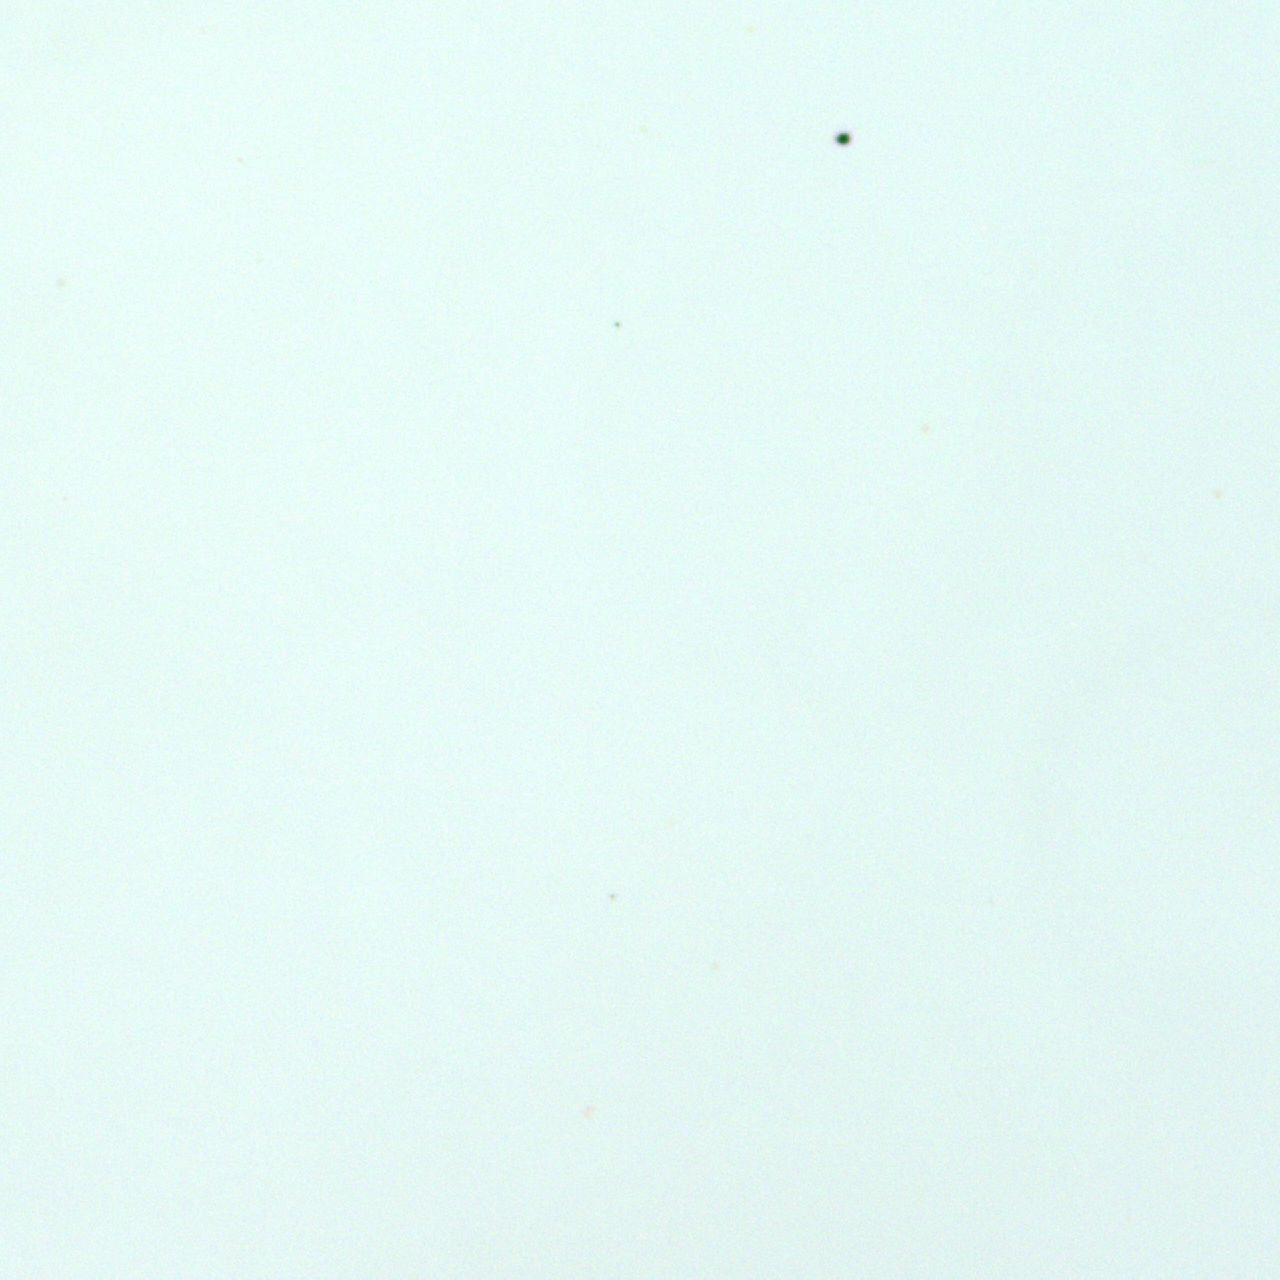dust: (836, 128, 851, 150)
